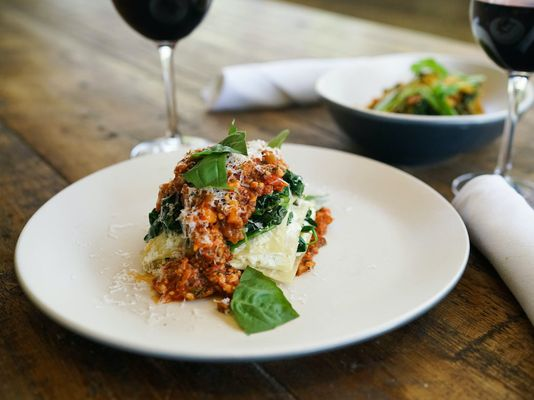sushi: (313, 54, 514, 166)
